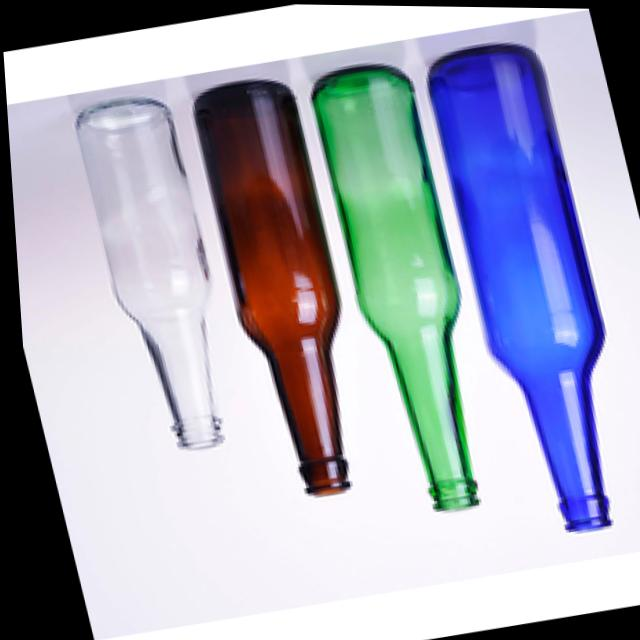glass_beverage_bottles: (420, 37, 640, 547), (305, 55, 510, 524), (186, 74, 383, 512), (69, 99, 245, 456)
